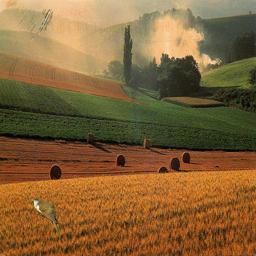Cuckoo: (30, 197, 60, 237)
